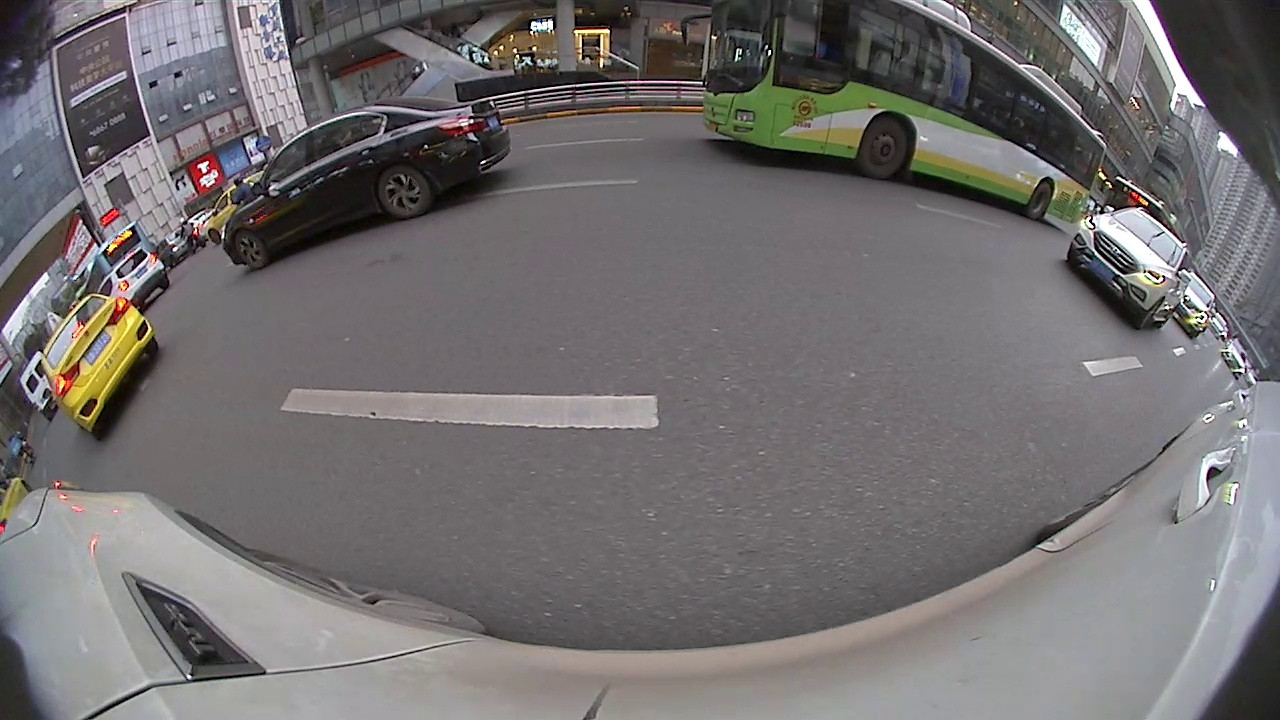bus: (697, 6, 1106, 229), (62, 223, 169, 311)
car: (218, 93, 506, 280), (34, 290, 160, 436), (1061, 208, 1194, 331), (100, 246, 168, 318), (1163, 277, 1219, 342)
front: (858, 117, 909, 178), (232, 228, 267, 272)
rear: (378, 164, 430, 222), (1022, 181, 1054, 221)
